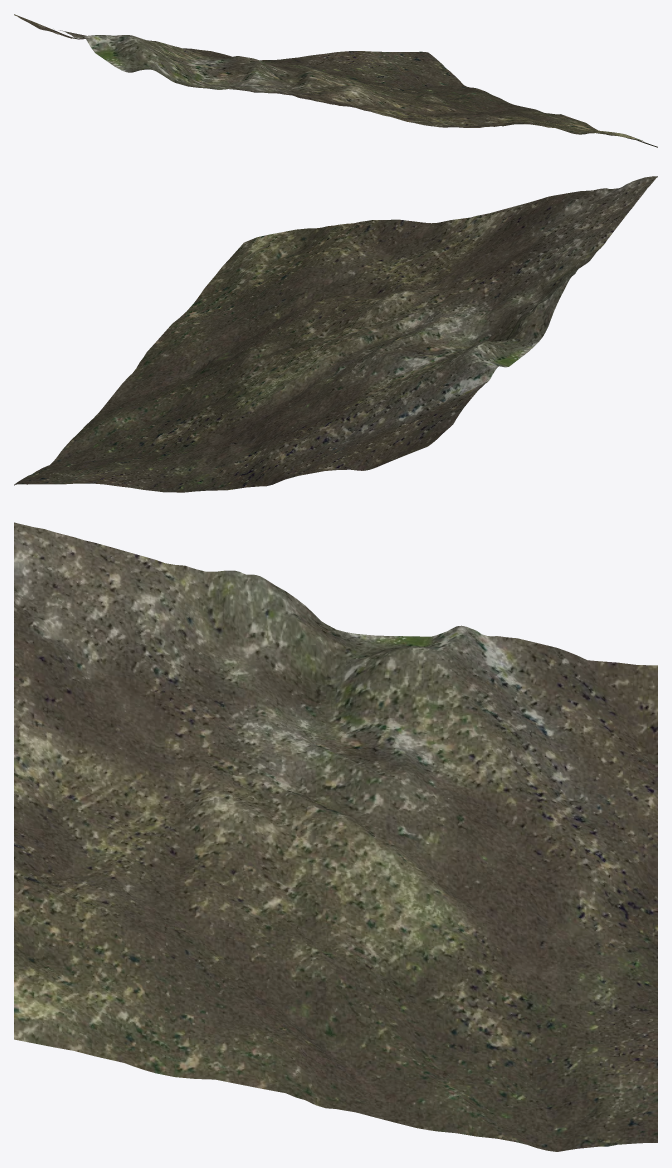
3 views of the same model, one above another, from view 1: azimuth 30°, elevation 25°; view 2: azimuth 150°, elevation 25°; view 3: azimuth 270°, elevation 25° (orthographic). The views are drawn at different scales.
Bounding box in the file's own units: 1000 × 574 × 963.
1 material, 1 textured.
